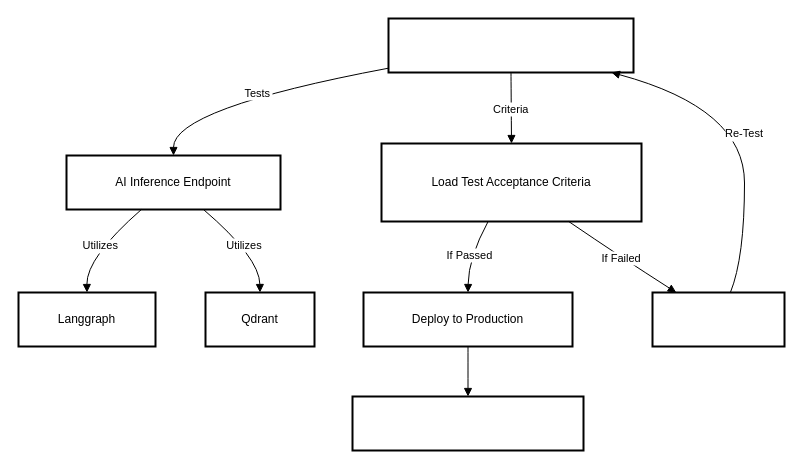
This 802x468 diagram has some shape labels left out. Each missing label, with the centre of its shape:
"Fix Issues" belongs at pixel 718 319.
"Locust - Load Testing Tool" belongs at pixel 510 45.
"Production Environment" belongs at pixel 467 423.
